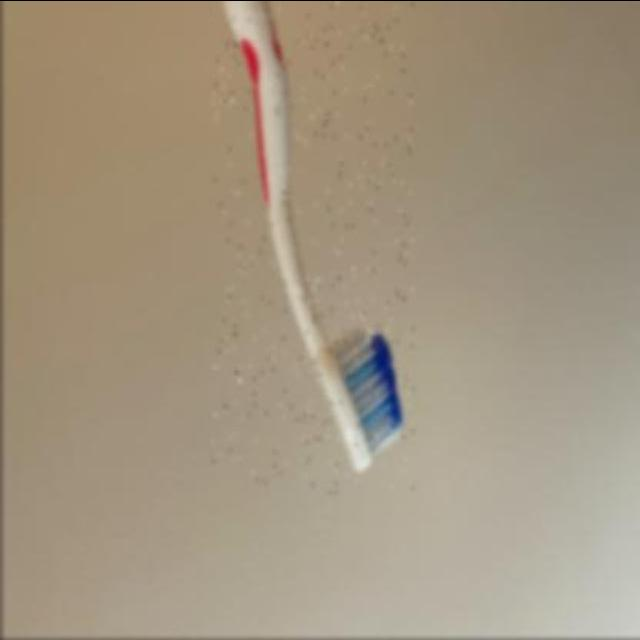toothbrush: (208, 0, 412, 496)
